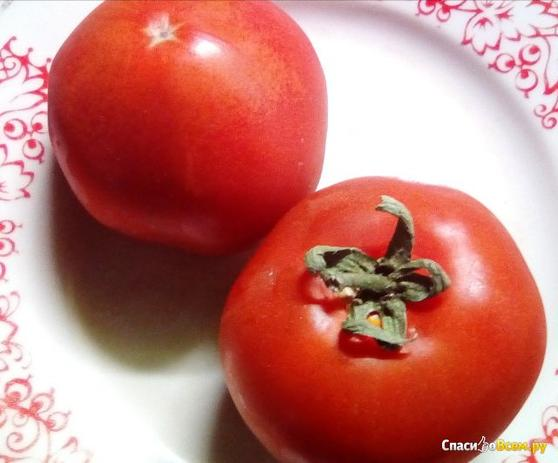tomato: (227, 175, 546, 463), (45, 1, 324, 239)
